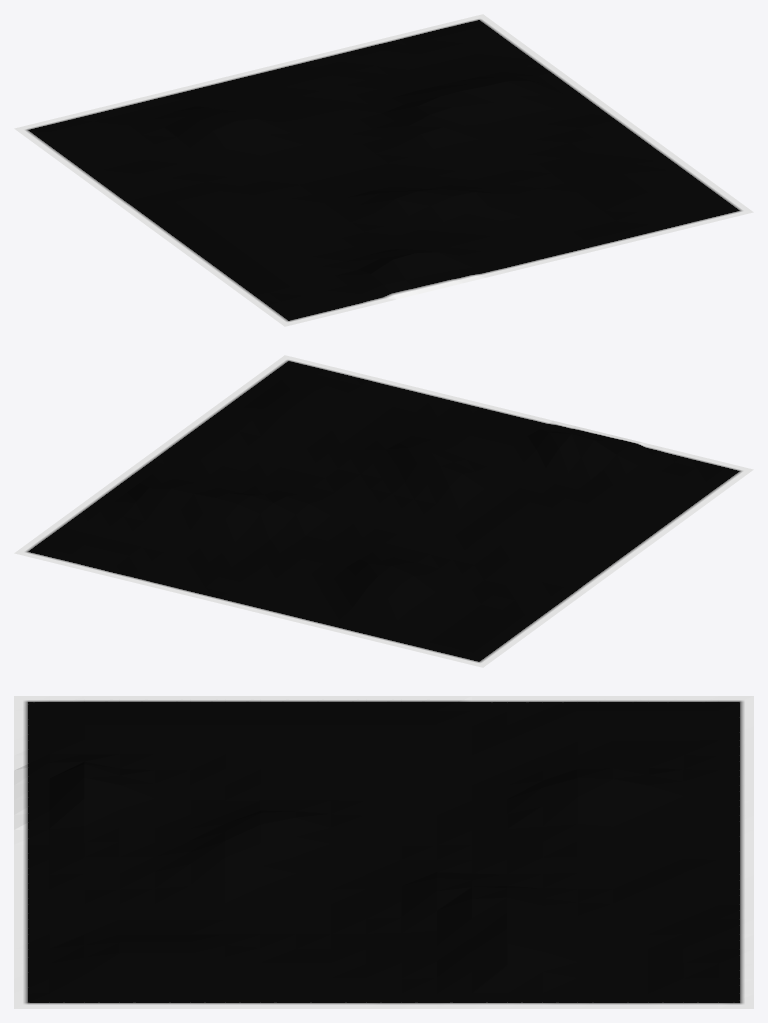
File: terrain.fbx
The picture shows the model from 3 angles, top to bottom: view 1: azimuth 30°, elevation 25°; view 2: azimuth 150°, elevation 25°; view 3: azimuth 270°, elevation 25°; orthographic projection. The views are drawn at different scales.
Parts seen in each view (by area): view 1: terrain; view 2: terrain; view 3: terrain.
Part boxes in pixels (x1,y1,x2,y2): terrain: (14, 14, 753, 326); terrain: (14, 355, 753, 667); terrain: (14, 696, 753, 1008).
Size of the model in its own units: 1000 by 34.24 by 1000.
Materials: 1 (1 with a texture image).
